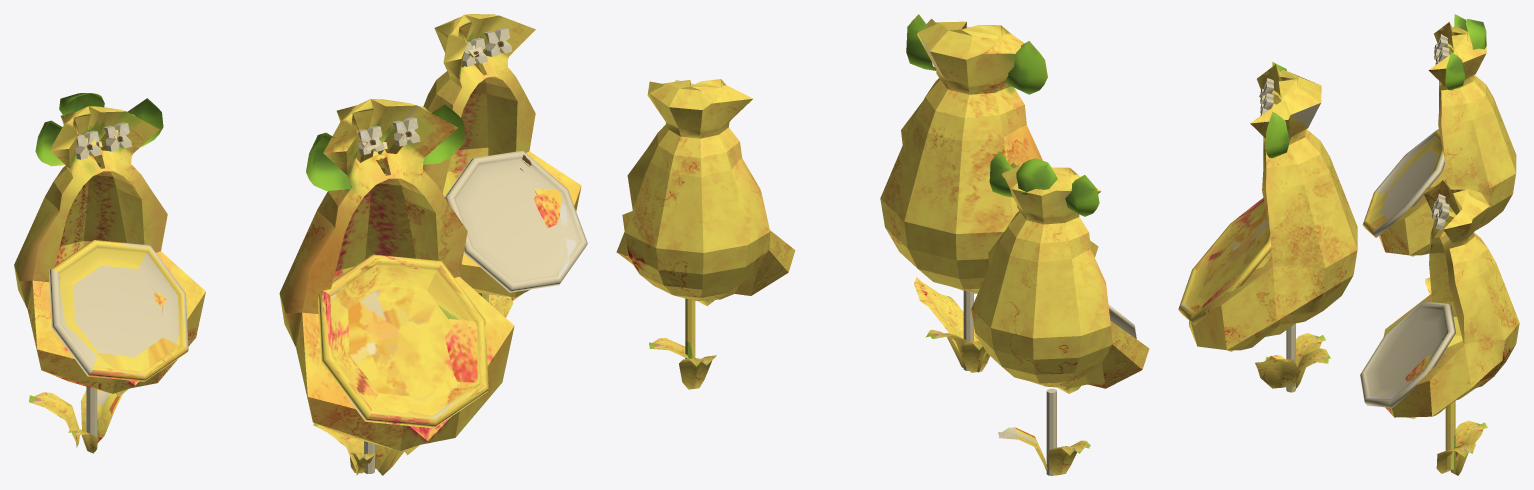
File: Planta cara de alien.fbx
3 renders of one model, left to right at view 1: azimuth 30°, elevation 25°; view 2: azimuth 150°, elevation 25°; view 3: azimuth 270°, elevation 25°, orthographic. The views are drawn at different scales.
Parts seen in each view (by area): view 1: Cuerpo_1, plato_1, Cuerpo_Alien, Platito2, Cuerpo_3, platito3, Orejita_2, Ojo1 (×2), Orejita_1, Hoja2, Hoja1, Oreja2 (+3 smaller); view 2: Cuerpo_1, Cuerpo_3, Cuerpo_Alien, Orejita_2, Hoja2 (×2), Hoja3, Copete, Oreja2, Orejita_1, Palo, Hoja1, Oreja1 (+2 smaller); view 3: Cuerpo_1, Cuerpo_3, Cuerpo_Alien, platito3, plato_1, Platito2, Hoja2 (×2), Hoja1 (×2), Hoja3, Orejita_1, Palo_3, Oreja1 (+2 smaller).
Part boxes in pixels (left/top/right/bottom): Cuerpo_1: left=279, top=99, right=514, bottom=455; plato_1: left=318, top=254, right=488, bottom=428; Cuerpo_Alien: left=14, top=106, right=205, bottom=397; Platito2: left=48, top=240, right=188, bottom=381; Cuerpo_3: left=423, top=14, right=581, bottom=300; platito3: left=445, top=150, right=587, bottom=292; Orejita_2: left=306, top=132, right=352, bottom=190; Ojo1 (×2): left=103, top=117, right=420, bottom=151; Orejita_1: left=423, top=103, right=465, bottom=164; Hoja2: left=80, top=389, right=122, bottom=442; Hoja1: left=29, top=392, right=79, bottom=447; Oreja2: left=35, top=120, right=64, bottom=166; Cuerpo_1: left=880, top=19, right=1098, bottom=293; Cuerpo_3: left=616, top=79, right=795, bottom=305; Cuerpo_Alien: left=971, top=162, right=1149, bottom=393; Orejita_2: left=1005, top=41, right=1047, bottom=94; Hoja2 (×2): left=679, top=341, right=989, bottom=389; Hoja3: left=914, top=277, right=979, bottom=351; Copete: left=1016, top=158, right=1057, bottom=194; Oreja2: left=1065, top=175, right=1099, bottom=216; Orejita_1: left=906, top=14, right=935, bottom=70; Palo: left=1046, top=388, right=1056, bottom=475; Hoja1: left=1047, top=442, right=1087, bottom=475; Oreja1: left=989, top=151, right=1012, bottom=197; Cuerpo_1: left=1189, top=64, right=1357, bottom=351; Cuerpo_3: left=1383, top=180, right=1519, bottom=418; Cuerpo_Alien: left=1379, top=22, right=1516, bottom=256; platito3: left=1360, top=301, right=1455, bottom=407; plato_1: left=1178, top=198, right=1271, bottom=325; Platito2: left=1362, top=129, right=1444, bottom=237; Hoja2 (×2): left=1296, top=333, right=1487, bottom=475; Hoja1 (×2): left=1290, top=348, right=1475, bottom=473; Hoja3: left=1255, top=356, right=1298, bottom=388; Orejita_1: left=1265, top=111, right=1289, bottom=158; Palo_3: left=1445, top=400, right=1455, bottom=469; Oreja1: left=1445, top=52, right=1465, bottom=90.
Bounding box in the file's own units: 8.8 × 5.62 × 5.5.
